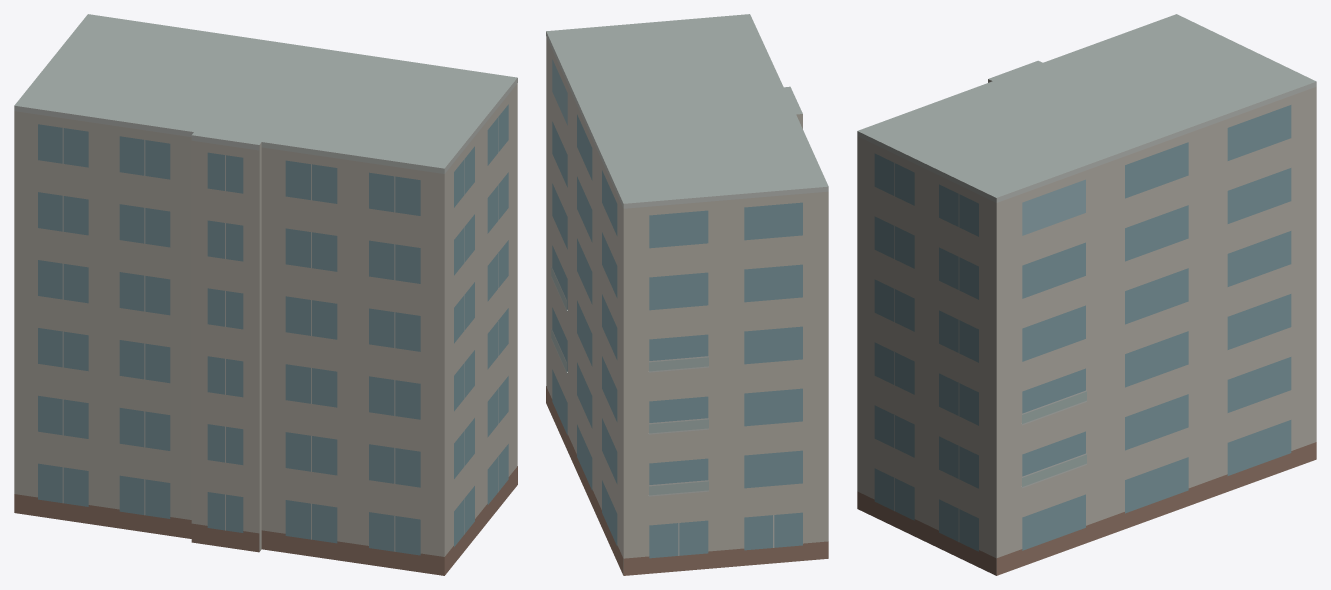
The model's file is survey-upis-32994148.glb.
3 views of the same model, side by side, from view 1: azimuth 30°, elevation 25°; view 2: azimuth 150°, elevation 25°; view 3: azimuth 270°, elevation 25° (orthographic). The views are drawn at different scales.
Visible parts, largest first — view 1: survey-upis-32994148.tmp; view 2: survey-upis-32994148.tmp; view 3: survey-upis-32994148.tmp.
Part boxes in pixels (box(x1,y1,x2,y2)): survey-upis-32994148.tmp: box(14, 14, 517, 575); survey-upis-32994148.tmp: box(546, 14, 828, 575); survey-upis-32994148.tmp: box(857, 14, 1316, 575).
Bounding box in the file's own units: 19.12 × 18.3 × 20.17.
